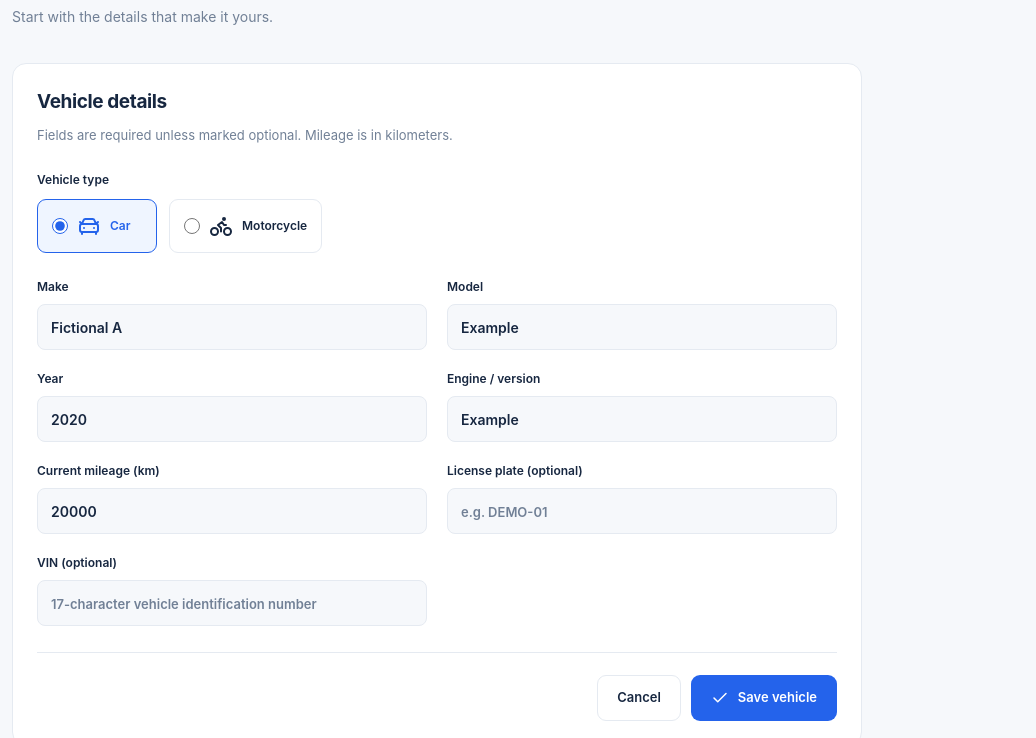
Scenario: shows an inline odometer error without exposing database diagnostics
(page scrolled)
Expected: the field showing "Fictional A" is shown, [37,304,427,350]
Click the button "Save vehicle" at (764, 698), box [691,675,837,721]
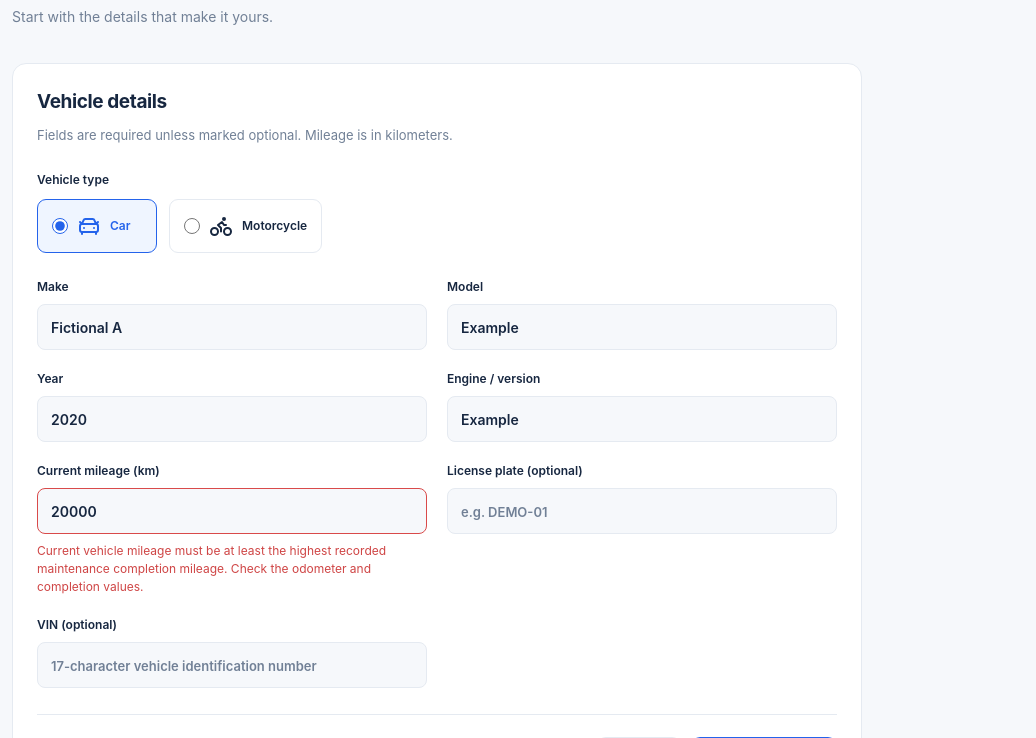
Now the text "highest recorded maintenance" is shown, box [37,543,386,594]
